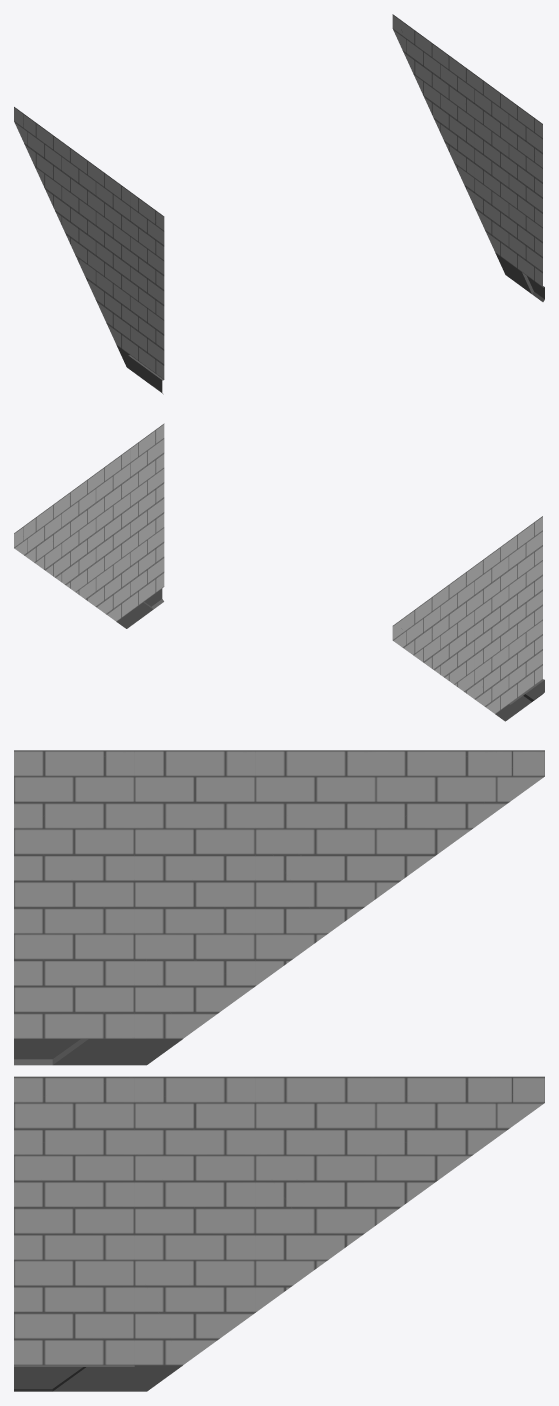
Rendered from SW_ENV_StationStair_Mid_Surround_Lower_FF.fbx.
3 views of the same model, one above another, from view 1: azimuth 30°, elevation 25°; view 2: azimuth 150°, elevation 25°; view 3: azimuth 270°, elevation 25° (orthographic). The views are drawn at different scales.
Parts seen in each view (by area): view 1: SW_ENV_StationStair_Mid_Surround_Lower_FF; view 2: SW_ENV_StationStair_Mid_Surround_Lower_FF; view 3: SW_ENV_StationStair_Mid_Surround_Lower_FF.
Boxes of the visible parts, left/top/right/bottom form: SW_ENV_StationStair_Mid_Surround_Lower_FF: left=14, top=14, right=544, bottom=394; SW_ENV_StationStair_Mid_Surround_Lower_FF: left=14, top=423, right=544, bottom=721; SW_ENV_StationStair_Mid_Surround_Lower_FF: left=14, top=750, right=544, bottom=1391.
Size of the model in its own units: 404 by 180 by 275.
